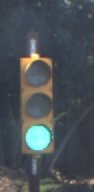Green: (18, 50, 62, 160)
